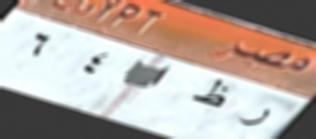4: (79, 48, 110, 82)
6: (28, 28, 51, 59)
Thaa: (191, 73, 228, 115)
alif: (147, 63, 172, 88)
raa: (233, 91, 271, 135)
